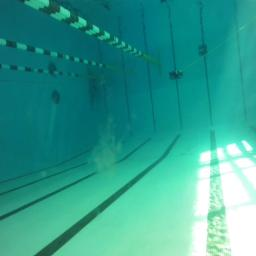Full: (198, 50, 208, 57)
back: (170, 67, 184, 79)
